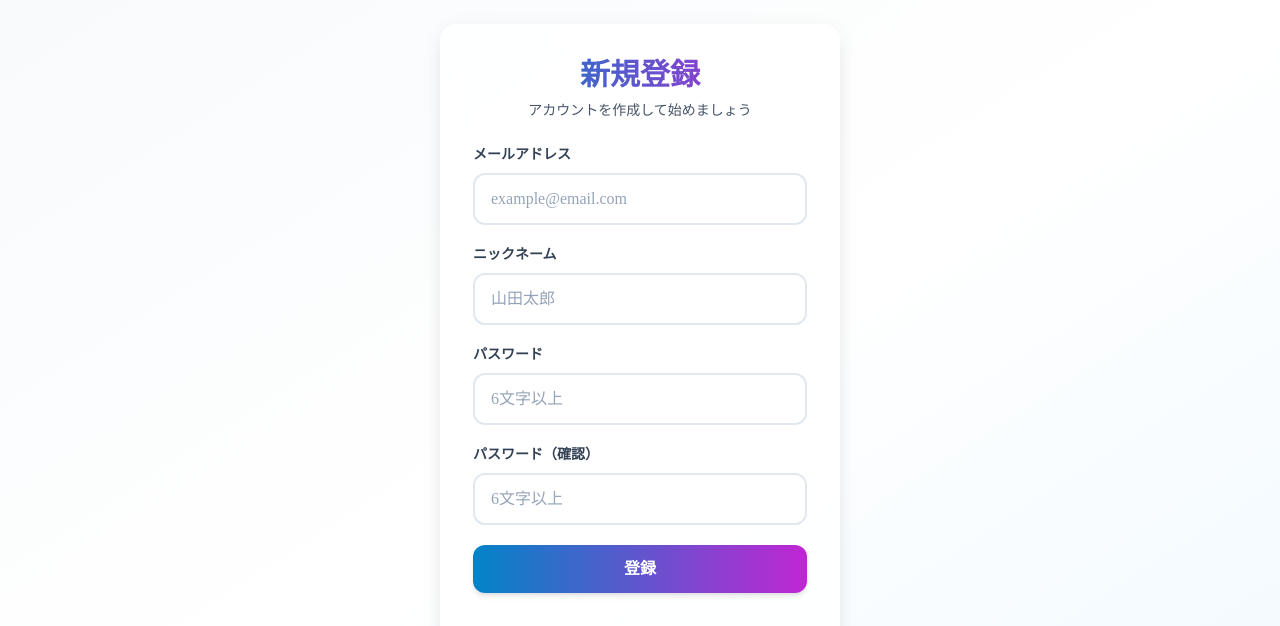
SignupForm › 登録失敗時にエラーを表示する
Type "test@example.com" into the field labelled "メールアドレス". click: (640, 199)
box: [473, 173, 807, 225]
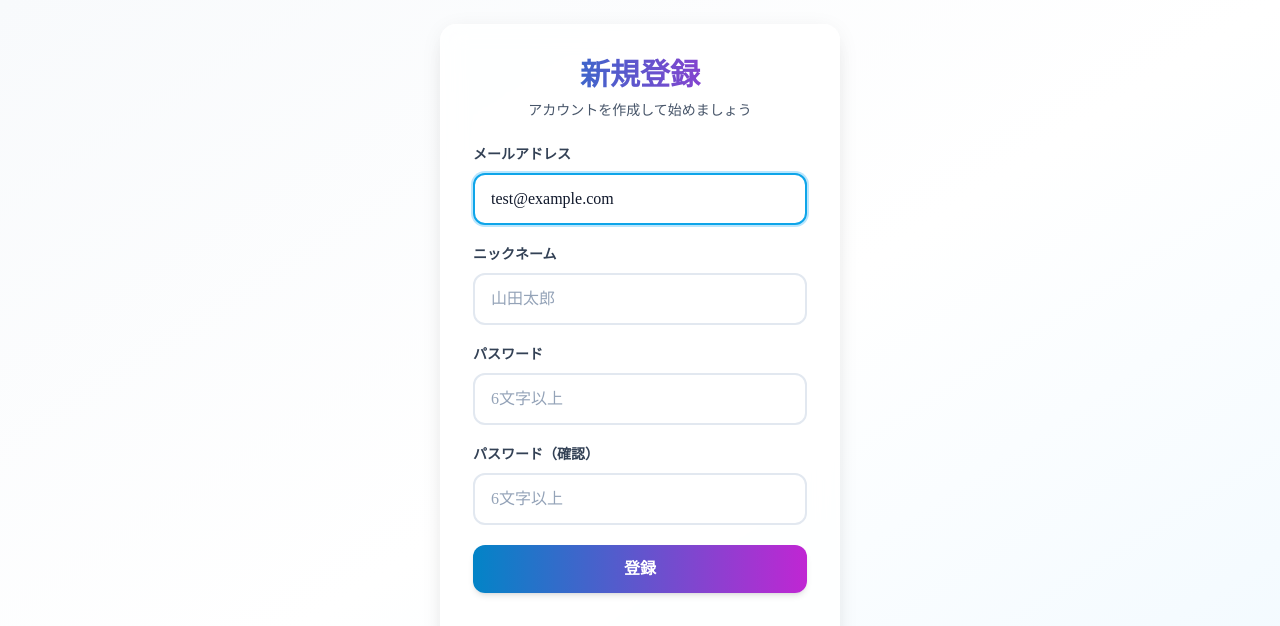
Type "テストユーザー" into the field labelled "ニックネーム". click: (640, 299)
box: [473, 273, 807, 325]
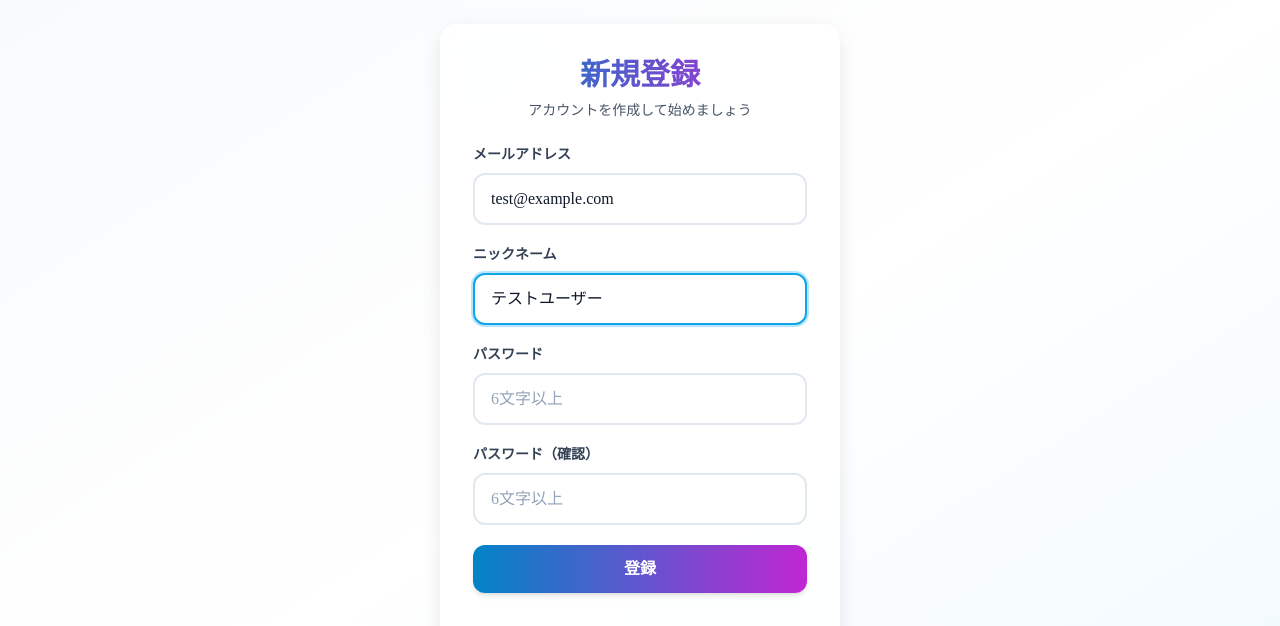
Type "password123" into the password field labelled "パスワード". click: (640, 399)
box: [473, 373, 807, 425]
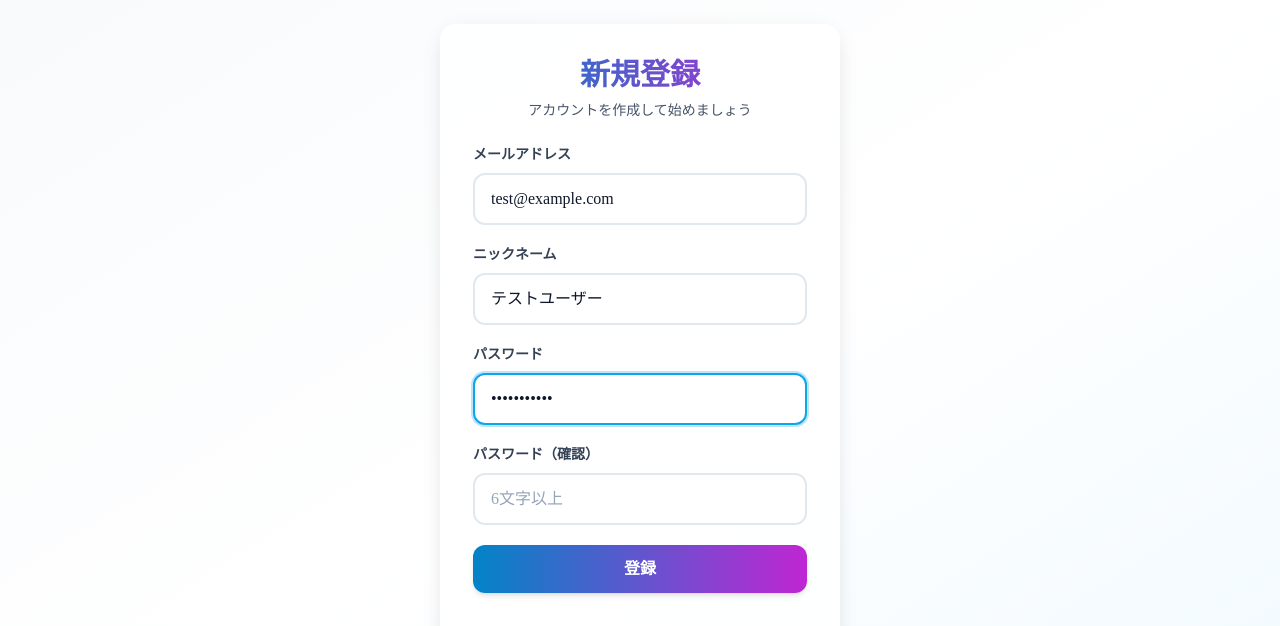
Type "password123" into the password field labelled "パスワード（確認）". click: (640, 499)
box: [473, 473, 807, 525]
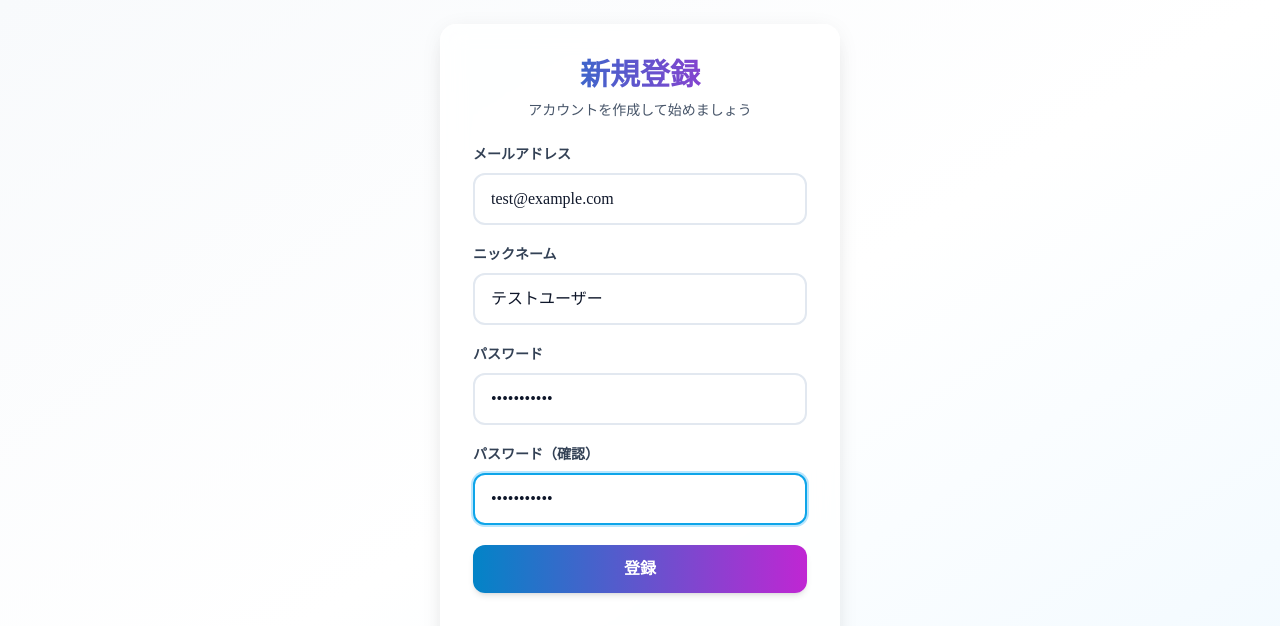
Click the button "登録". click: (640, 569)
box: [473, 545, 807, 593]
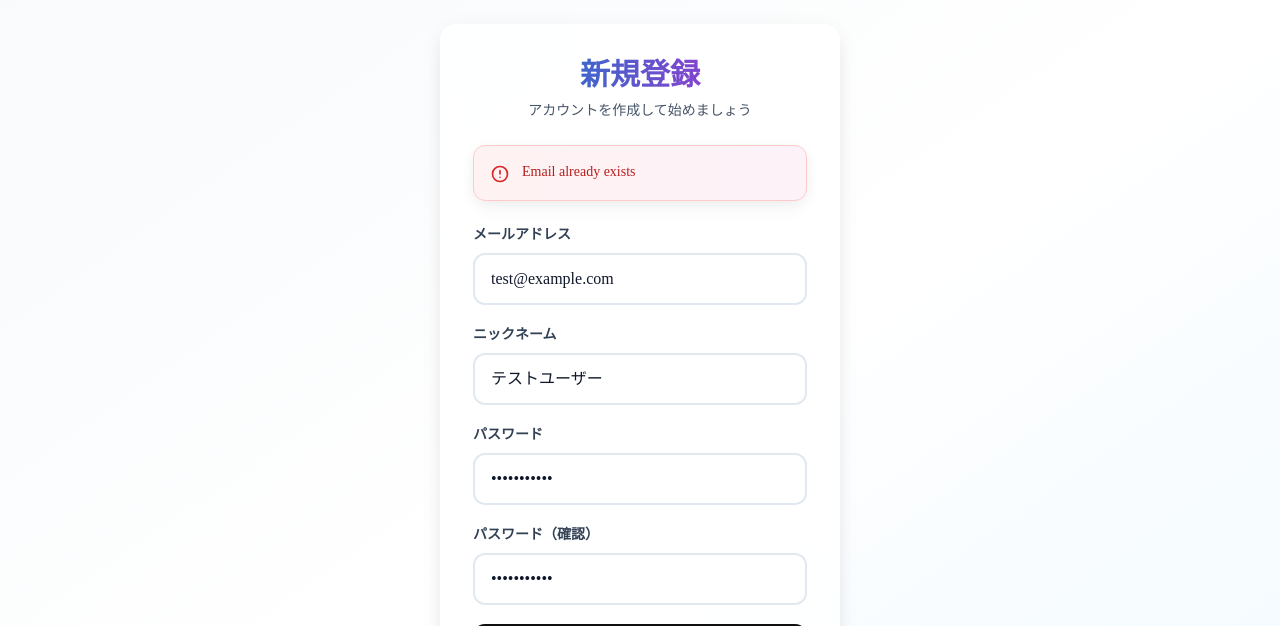
Expected: the text "Email already exists" is shown, [522, 162, 636, 182]
